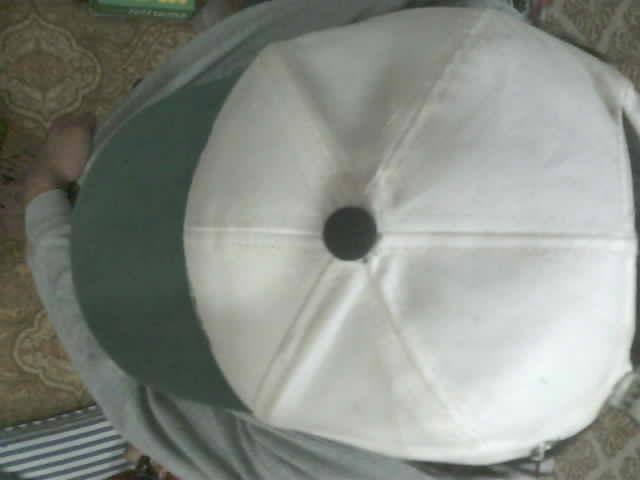cap: (68, 7, 639, 466)
